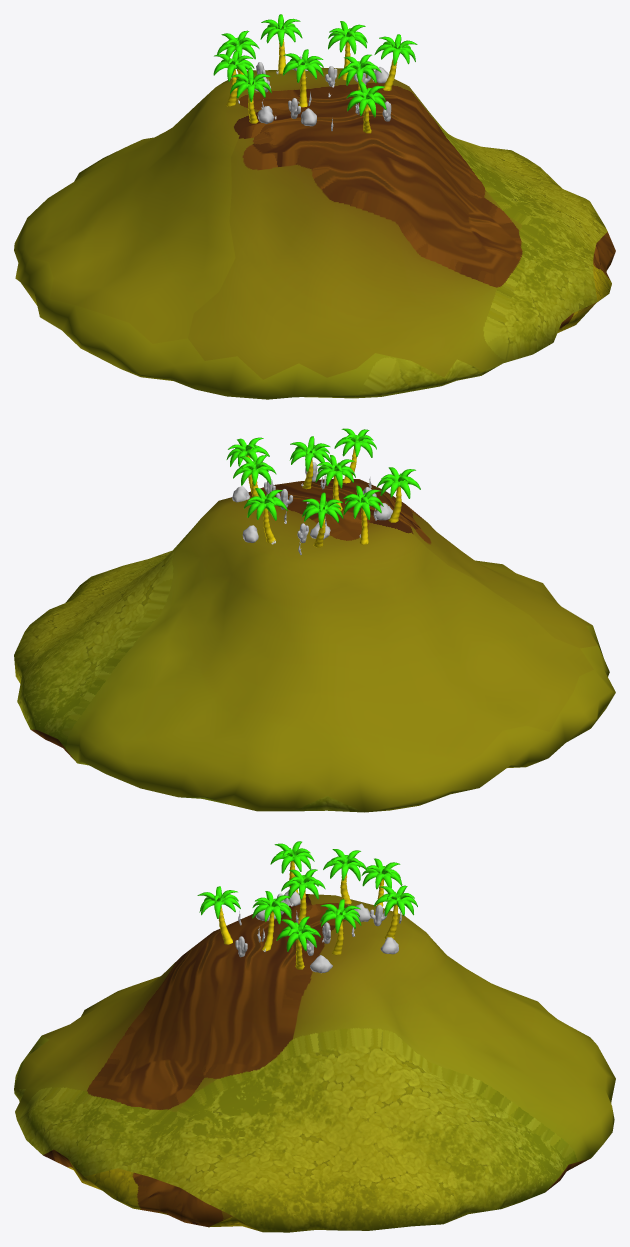
Rendered from MiniIslandPiaMDet.fbx.
The picture shows the model from 3 angles, top to bottom: view 1: azimuth 30°, elevation 25°; view 2: azimuth 150°, elevation 25°; view 3: azimuth 270°, elevation 25°; orthographic projection.
Visible parts, largest first — view 1: miniIslandMlp, palm01.007, palm01.012, palm01.011, palm01.006, palm01.010, palm01.008, palm01.014, palm01.013, palm01.009; view 2: miniIslandMlp, palm01.014, palm01.006, palm01.011, palm01.009, palm01.013, palm01.012, palm01.007, palm01.008, palm01.010; view 3: miniIslandMlp, palm01.010, palm01.013, palm01.006, palm01.007, palm01.008, palm01.014, palm01.012, palm01.011, palm01.009.
Part boxes in pixels (x1,y1,x2,y2): miniIslandMlp: [14, 67, 615, 399]; palm01.007: [346, 80, 386, 133]; palm01.012: [283, 49, 323, 107]; palm01.011: [230, 67, 271, 123]; palm01.006: [260, 14, 302, 74]; palm01.010: [374, 34, 417, 90]; palm01.008: [328, 21, 367, 80]; palm01.014: [213, 51, 254, 106]; palm01.013: [338, 54, 381, 110]; palm01.009: [217, 30, 259, 75]; miniIslandMlp: [14, 479, 615, 812]; palm01.014: [343, 485, 383, 545]; palm01.006: [244, 488, 287, 543]; palm01.011: [376, 467, 420, 522]; palm01.009: [302, 492, 343, 547]; palm01.013: [289, 436, 330, 489]; palm01.012: [315, 455, 355, 510]; palm01.007: [334, 428, 376, 483]; palm01.008: [233, 455, 276, 509]; palm01.010: [226, 437, 269, 493]; miniIslandMlp: [14, 893, 615, 1232]; palm01.010: [276, 916, 320, 969]; palm01.013: [252, 891, 291, 951]; palm01.006: [374, 885, 417, 939]; palm01.007: [197, 886, 240, 944]; palm01.008: [320, 899, 361, 955]; palm01.014: [323, 849, 366, 903]; palm01.012: [281, 869, 325, 923]; palm01.011: [270, 841, 314, 893]; palm01.009: [361, 858, 402, 914].
Bounding box in the file's own units: 243 × 104 × 245.
